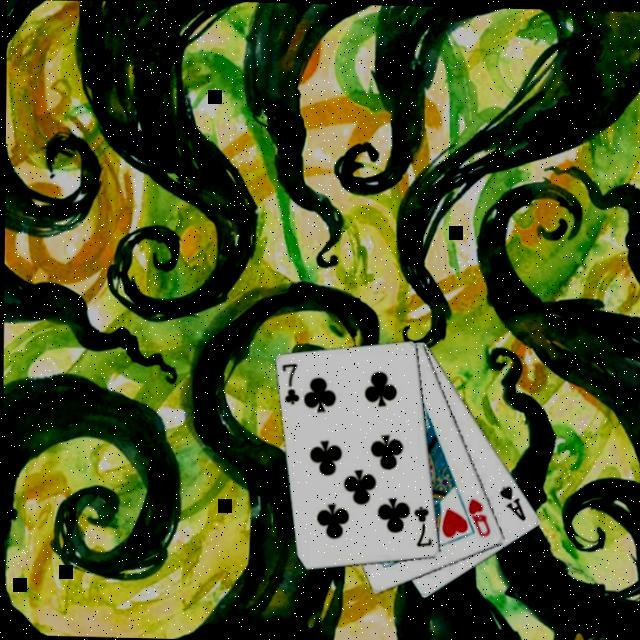7C: (407, 500, 432, 547), (276, 358, 301, 405)
AS: (494, 478, 527, 521)
QH: (461, 493, 491, 537)
